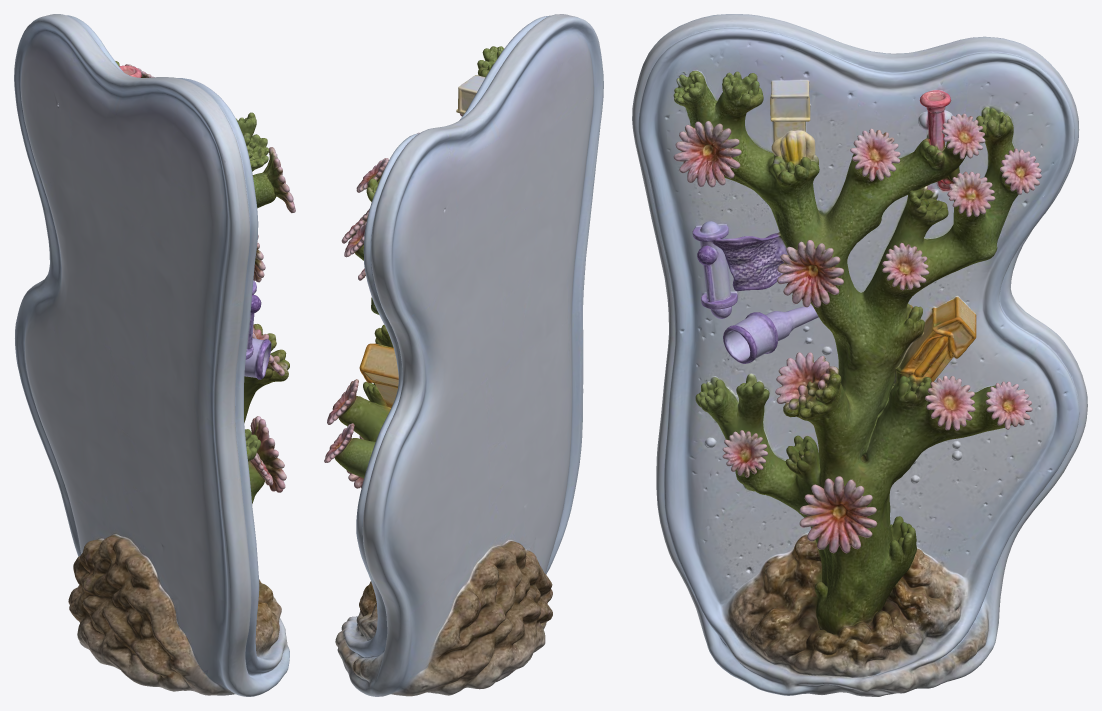
3 renders of one model, left to right at view 1: azimuth 30°, elevation 25°; view 2: azimuth 150°, elevation 25°; view 3: azimuth 270°, elevation 25°, orthographic. The views are drawn at different scales.
Size of the model in its own units: 0.3024 by 0.9999 by 0.6632.
Materials: 1 (1 with a texture image).
